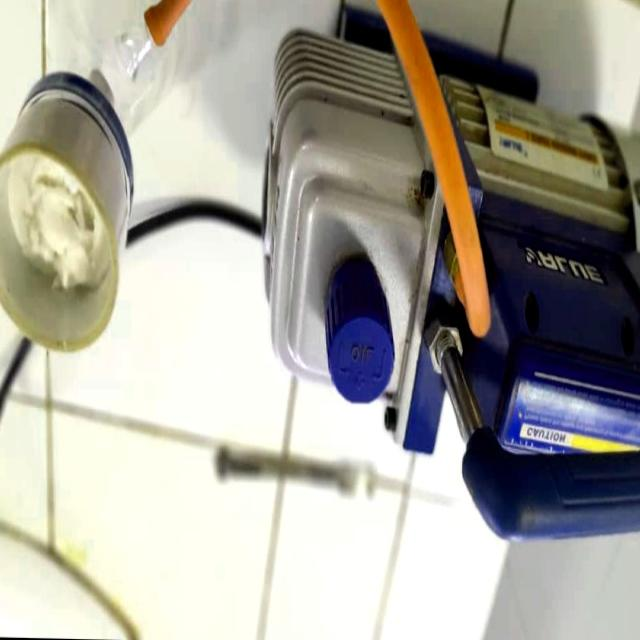Vacuum Pump: (250, 22, 640, 543)
